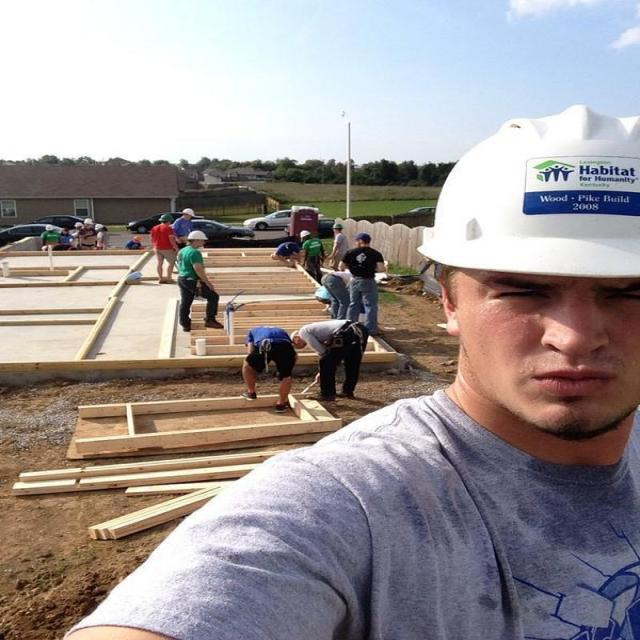helmet: (418, 106, 639, 276)
